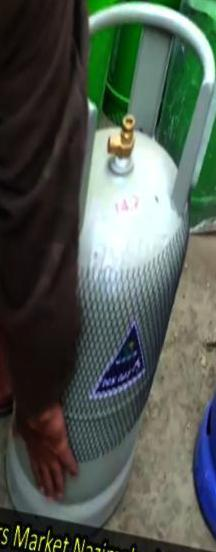cylinder: (1, 1, 216, 552)
